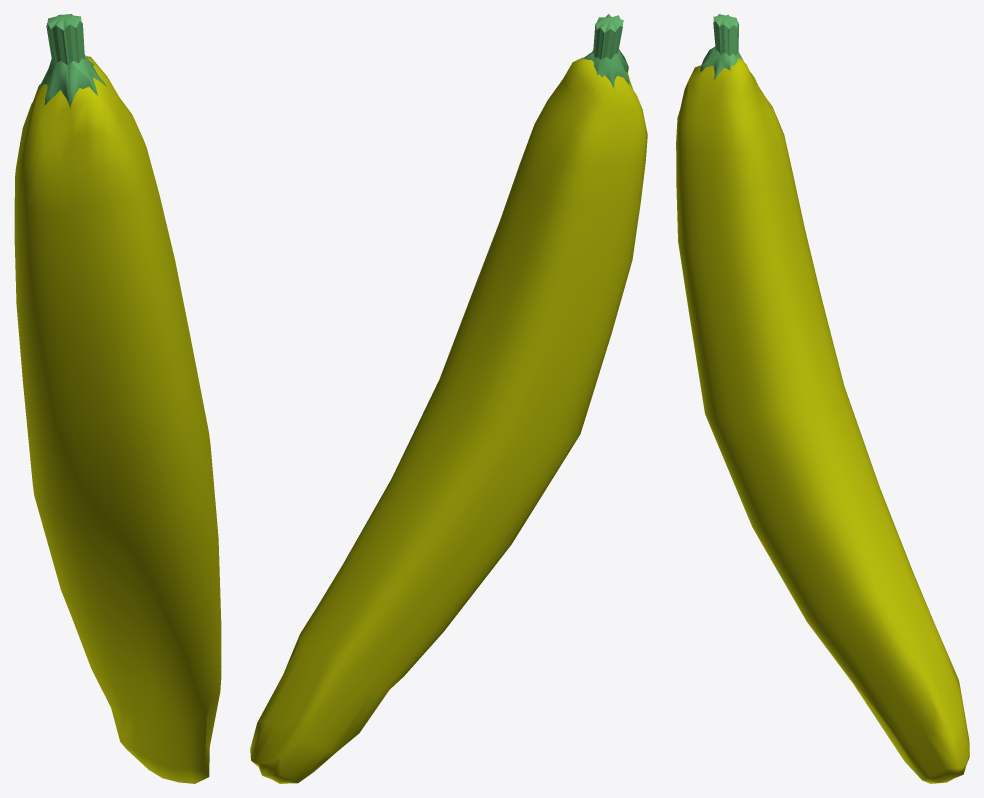
The model's file is banana.fbx.
The picture shows the model from 3 angles, left to right: view 1: azimuth 30°, elevation 25°; view 2: azimuth 150°, elevation 25°; view 3: azimuth 270°, elevation 25°; orthographic projection. The views are drawn at different scales.
Visible parts, largest first — view 1: polySurface2; view 2: polySurface2; view 3: polySurface2.
Part boxes in pixels (x1,y1,x2,y2): polySurface2: (14, 14, 221, 783); polySurface2: (250, 14, 647, 783); polySurface2: (676, 14, 969, 783).
Bounding box in the file's own units: 5.33 × 13.79 × 5.46.
